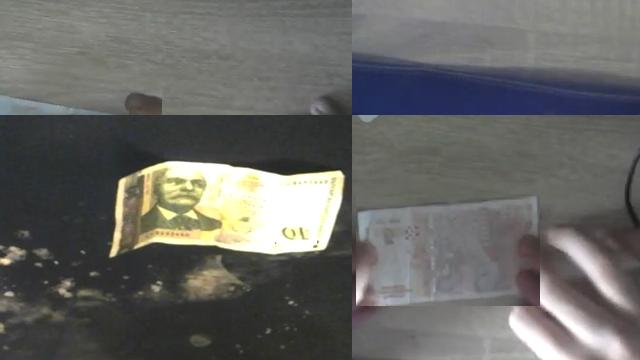10leva: (133, 167, 223, 241), (275, 218, 316, 243)
5leva: (356, 194, 540, 306)
